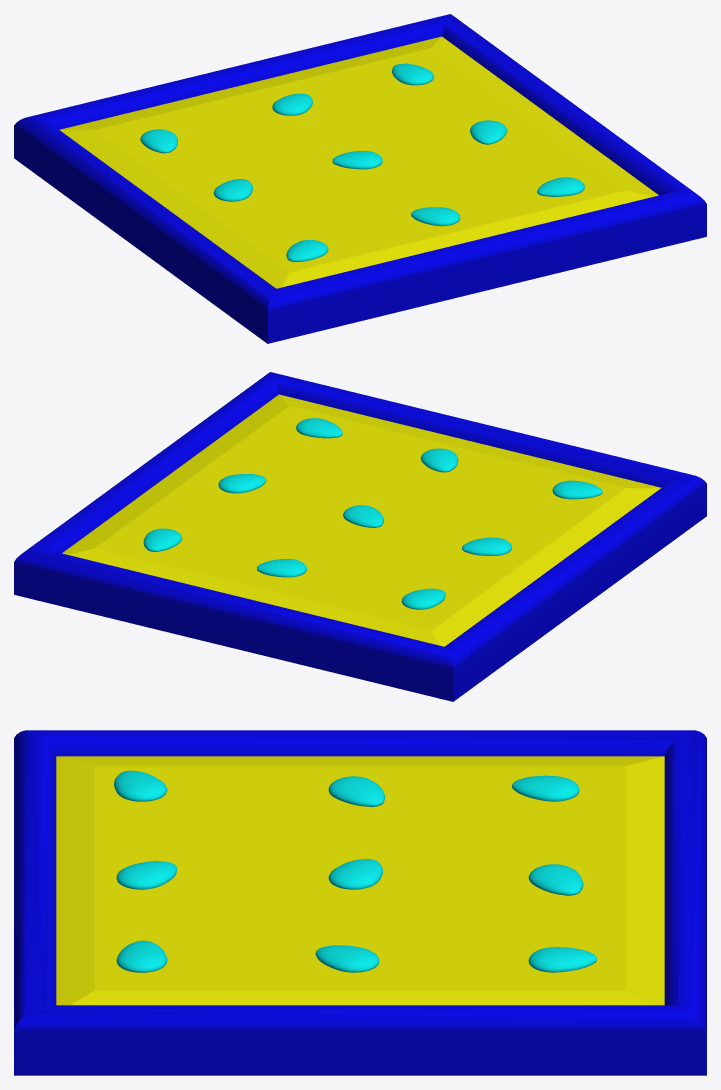
Rendered from Stage_1.fbx.
3 views of the same model, one above another, from view 1: azimuth 30°, elevation 25°; view 2: azimuth 150°, elevation 25°; view 3: azimuth 270°, elevation 25° (orthographic). The views are drawn at different scales.
Visible parts, largest first — view 1: Stage_1:Carrot_Dirt_Stage_1, Stage_1:Carrot_Bed_Stage_1, Stage_1:Carrot_Seed_1_Stage_5, Stage_1:Carrot_Seed_1_Stage_2, Stage_1:Carrot_Seed_1_Stage_3, Stage_1:Carrot_Seed_1_Stage_7, Stage_1:Carrot_Seed_1_Stage_1, Stage_1:Carrot_Seed_1_Stage_8, Stage_1:Carrot_Seed_1_Stage_4, Stage_1:Carrot_Seed_1_Stage_9, Stage_1:Carrot_Seed_1_Stage_6; view 2: Stage_1:Carrot_Dirt_Stage_1, Stage_1:Carrot_Bed_Stage_1, Stage_1:Carrot_Seed_1_Stage_1, Stage_1:Carrot_Seed_1_Stage_8, Stage_1:Carrot_Seed_1_Stage_6, Stage_1:Carrot_Seed_1_Stage_4, Stage_1:Carrot_Seed_1_Stage_3, Stage_1:Carrot_Seed_1_Stage_9, Stage_1:Carrot_Seed_1_Stage_5, Stage_1:Carrot_Seed_1_Stage_2, Stage_1:Carrot_Seed_1_Stage_7; view 3: Stage_1:Carrot_Dirt_Stage_1, Stage_1:Carrot_Bed_Stage_1, Stage_1:Carrot_Seed_1_Stage_7, Stage_1:Carrot_Seed_1_Stage_9, Stage_1:Carrot_Seed_1_Stage_4, Stage_1:Carrot_Seed_1_Stage_2, Stage_1:Carrot_Seed_1_Stage_6, Stage_1:Carrot_Seed_1_Stage_8, Stage_1:Carrot_Seed_1_Stage_5, Stage_1:Carrot_Seed_1_Stage_1, Stage_1:Carrot_Seed_1_Stage_3.
Part boxes in pixels (x1,y1,x2,y2): Stage_1:Carrot_Dirt_Stage_1: (59,36,658,288); Stage_1:Carrot_Bed_Stage_1: (14,14,706,343); Stage_1:Carrot_Seed_1_Stage_5: (332,151,382,169); Stage_1:Carrot_Seed_1_Stage_2: (411,207,460,226); Stage_1:Carrot_Seed_1_Stage_3: (537,177,584,196); Stage_1:Carrot_Seed_1_Stage_7: (392,63,433,85); Stage_1:Carrot_Seed_1_Stage_1: (286,239,328,261); Stage_1:Carrot_Seed_1_Stage_8: (272,93,312,115); Stage_1:Carrot_Seed_1_Stage_4: (470,120,507,144); Stage_1:Carrot_Seed_1_Stage_9: (140,129,177,153); Stage_1:Carrot_Seed_1_Stage_6: (213,179,252,201); Stage_1:Carrot_Dirt_Stage_1: (62,394,661,646); Stage_1:Carrot_Bed_Stage_1: (14,372,706,701); Stage_1:Carrot_Seed_1_Stage_1: (552,480,602,499); Stage_1:Carrot_Seed_1_Stage_8: (257,559,306,577); Stage_1:Carrot_Seed_1_Stage_6: (462,537,511,555); Stage_1:Carrot_Seed_1_Stage_4: (218,474,266,493); Stage_1:Carrot_Seed_1_Stage_3: (296,418,342,438); Stage_1:Carrot_Seed_1_Stage_9: (401,588,445,609); Stage_1:Carrot_Seed_1_Stage_5: (343,505,383,527); Stage_1:Carrot_Seed_1_Stage_2: (420,448,458,472); Stage_1:Carrot_Seed_1_Stage_7: (143,528,182,551); Stage_1:Carrot_Dirt_Stage_1: (56,756,664,1005); Stage_1:Carrot_Bed_Stage_1: (14,730,706,1075); Stage_1:Carrot_Seed_1_Stage_7: (528,947,596,972); Stage_1:Carrot_Seed_1_Stage_9: (512,775,579,801); Stage_1:Carrot_Seed_1_Stage_4: (315,945,379,972); Stage_1:Carrot_Seed_1_Stage_2: (116,861,177,889); Stage_1:Carrot_Seed_1_Stage_6: (328,776,385,806); Stage_1:Carrot_Seed_1_Stage_8: (528,864,583,895); Stage_1:Carrot_Seed_1_Stage_5: (328,859,382,889); Stage_1:Carrot_Seed_1_Stage_1: (114,770,167,801); Stage_1:Carrot_Seed_1_Stage_3: (116,940,167,972).
Size of the model in its own units: 4.24 by 0.409 by 4.24.
